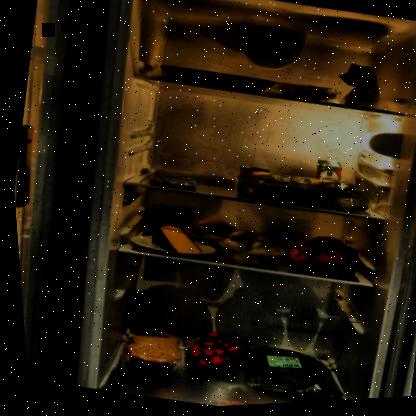cheese: (144, 221, 204, 261)
chocolate: (144, 169, 198, 196)
corn: (230, 165, 270, 202)
green_beans: (227, 339, 348, 407)
heavy_cream: (307, 159, 343, 208)
mushrooms: (208, 226, 284, 275)
potato: (168, 212, 242, 260)
shrimp: (276, 85, 338, 110)
spinach: (239, 166, 368, 223)
strawberries: (173, 326, 245, 380)
sweet_potato: (278, 230, 364, 288)
